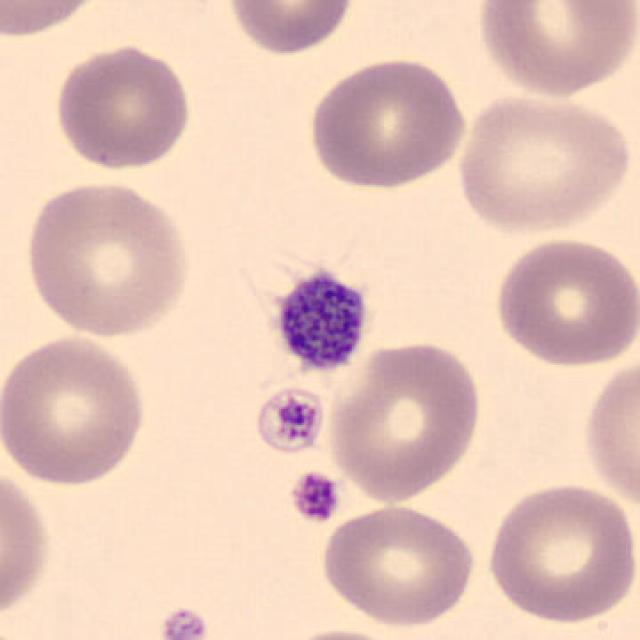Platelets: (266, 263, 372, 379), (251, 384, 327, 457), (288, 469, 341, 525), (156, 604, 209, 640)
RBC: (19, 177, 196, 340), (450, 86, 633, 238), (324, 337, 487, 504), (0, 330, 151, 490), (304, 53, 471, 192), (480, 478, 636, 626), (318, 500, 480, 628), (491, 233, 638, 370), (50, 41, 194, 172), (471, 0, 638, 100), (578, 353, 640, 513), (0, 458, 55, 628), (222, 0, 359, 58), (0, 0, 110, 41), (268, 624, 414, 640)
